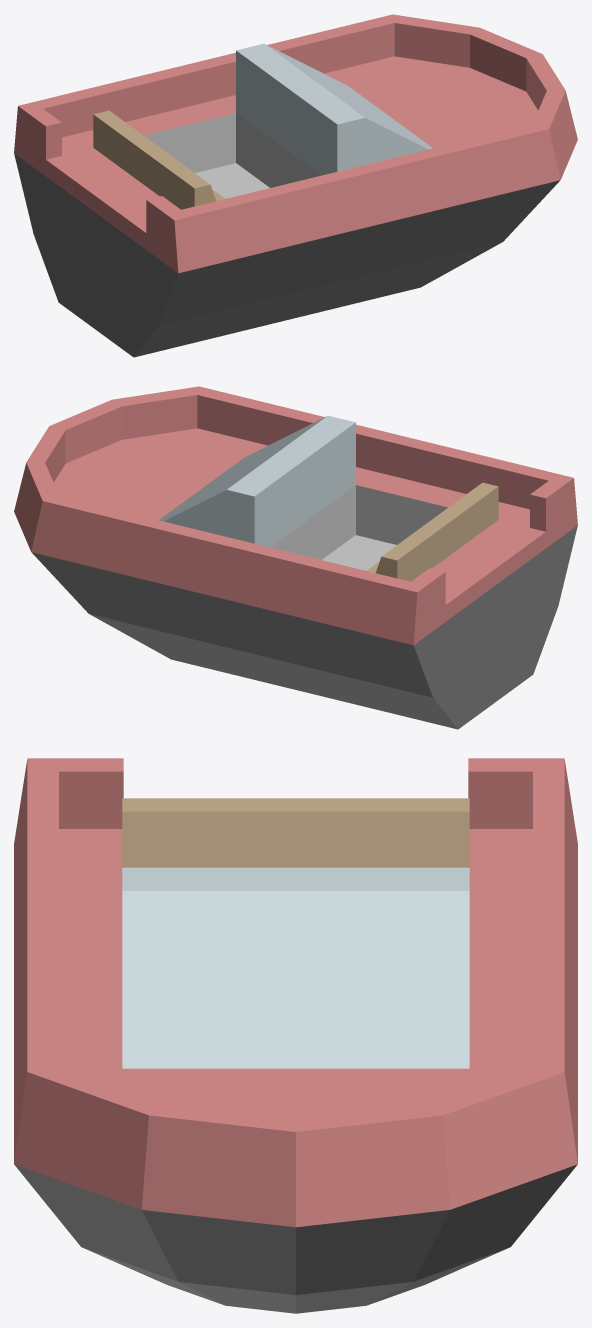
File: Openboat.fbx
3 views of the same model, one above another, from view 1: azimuth 30°, elevation 25°; view 2: azimuth 150°, elevation 25°; view 3: azimuth 270°, elevation 25° (orthographic). The views are drawn at different scales.
Parts seen in each view (by area): view 1: watercraftPack_015:polySurface1; view 2: watercraftPack_015:polySurface1; view 3: watercraftPack_015:polySurface1.
Boxes of the visible parts, <box> form: watercraftPack_015:polySurface1: <box>14,14,577,357</box>; watercraftPack_015:polySurface1: <box>14,386,577,729</box>; watercraftPack_015:polySurface1: <box>14,758,577,1313</box>.
Bounding box in the file's own units: 2.87 × 1.17 × 1.78.
